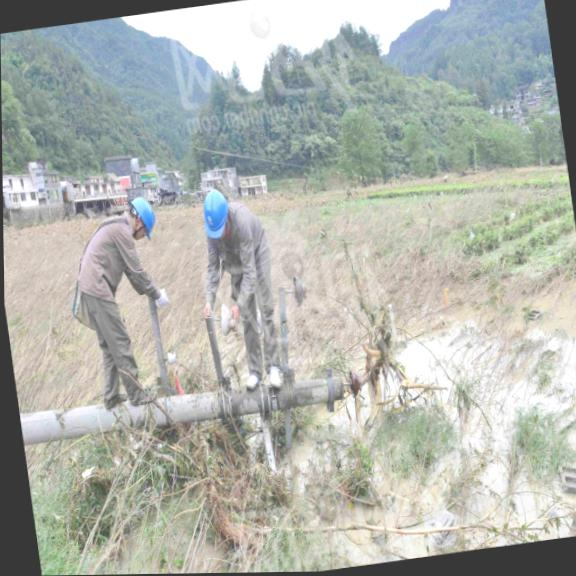no_safety_vest: (75, 219, 138, 304)
